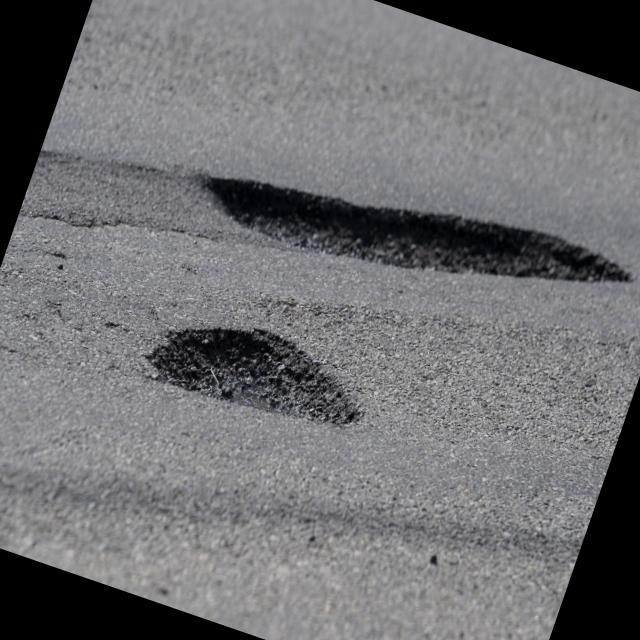Potholes: (188, 112, 640, 357), (128, 281, 396, 468)
